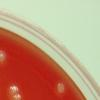white: (56, 81, 65, 95), (0, 48, 7, 65), (9, 84, 19, 95), (12, 93, 22, 100)
